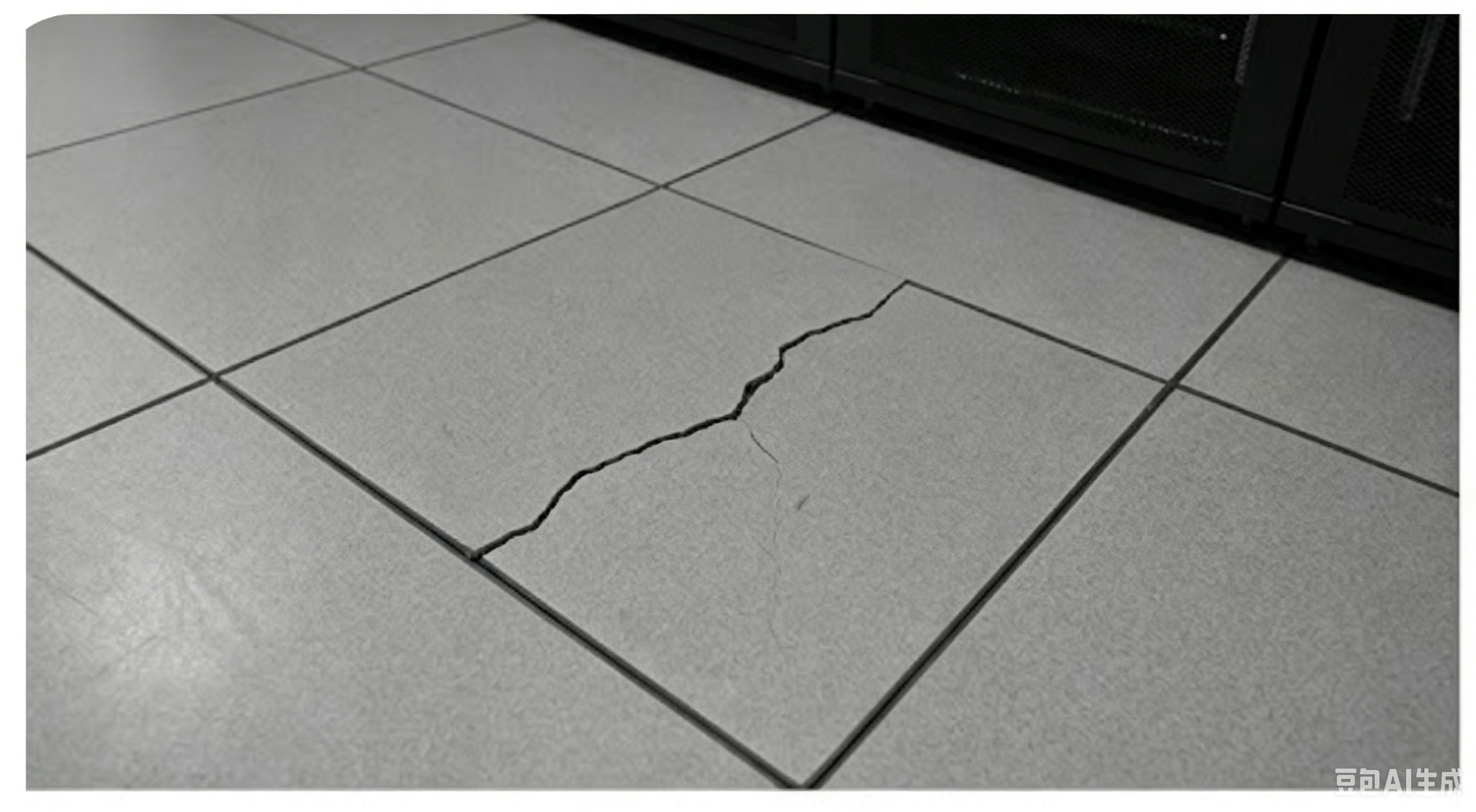floor_defect: (740, 434, 804, 674), (459, 506, 559, 556), (733, 340, 808, 396), (537, 463, 605, 500), (867, 279, 915, 331), (603, 432, 684, 460), (789, 312, 865, 340), (686, 399, 752, 431)
